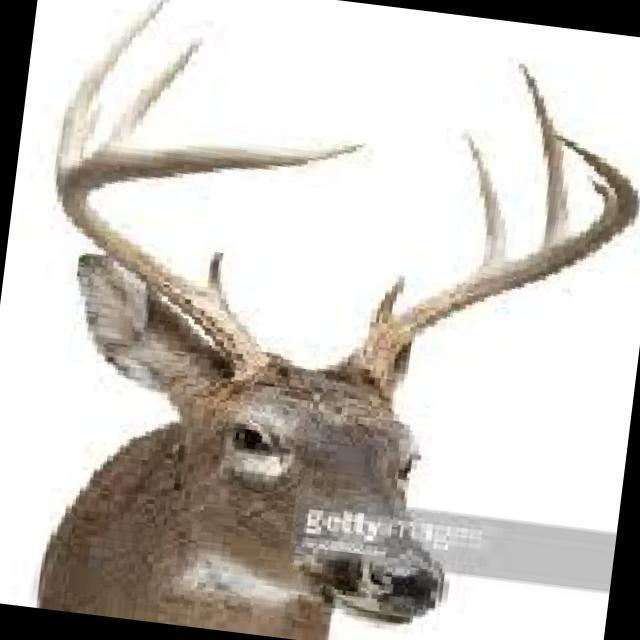E1: (587, 176, 612, 208)
L-F: (316, 135, 640, 408)
L-G1: (366, 270, 407, 335)
L-G2: (458, 126, 508, 272)
L-G3: (514, 61, 573, 251)
R-F: (53, 140, 367, 380)
R-G1: (204, 251, 227, 305)
R-G2: (54, 0, 170, 168)
R-G3: (95, 34, 209, 152)
